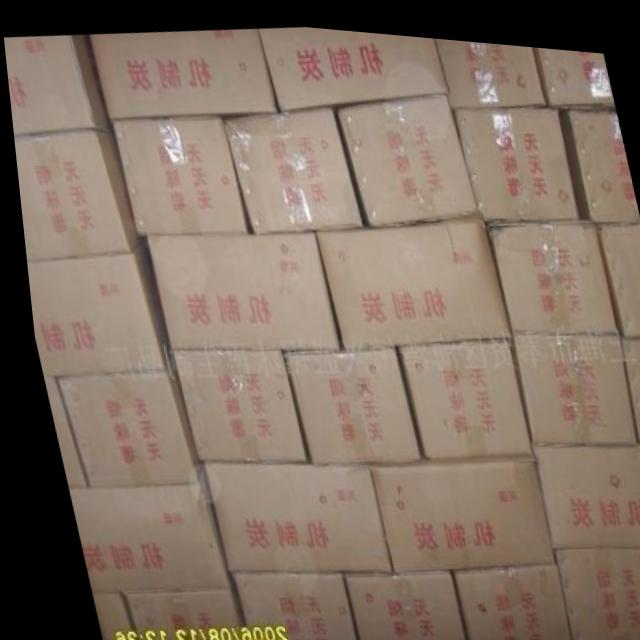box: (309, 205, 506, 344), (138, 226, 337, 349), (357, 444, 545, 566), (193, 458, 381, 570), (21, 237, 165, 375), (332, 82, 473, 220), (59, 476, 221, 596), (219, 99, 359, 229), (44, 368, 195, 484), (89, 23, 274, 116), (107, 110, 243, 232), (11, 124, 133, 259), (390, 330, 522, 452), (259, 21, 443, 105), (448, 94, 577, 213), (279, 341, 410, 458), (164, 345, 297, 459), (480, 209, 611, 323), (505, 320, 631, 435), (521, 432, 640, 538), (3, 33, 108, 135), (442, 552, 562, 640), (542, 538, 640, 638), (556, 96, 638, 212), (331, 563, 454, 640), (219, 566, 343, 640), (434, 30, 544, 96), (114, 585, 236, 640), (592, 211, 640, 325), (537, 38, 614, 96), (36, 375, 76, 486), (613, 322, 640, 430), (79, 592, 120, 640)
